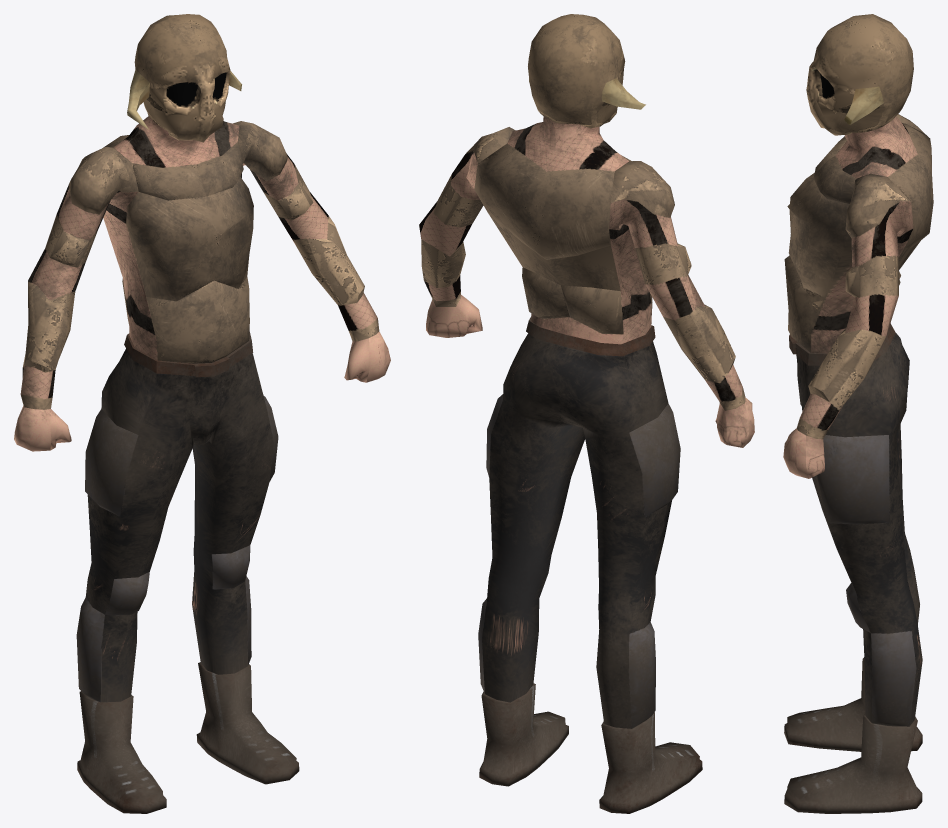
The model's file is Anim_idle_npc1.0032.obj.
The picture shows the model from 3 angles, left to right: view 1: azimuth 30°, elevation 25°; view 2: azimuth 150°, elevation 25°; view 3: azimuth 270°, elevation 25°; orthographic projection.
Parts seen in each view (by area): view 1: NPC2; view 2: NPC2; view 3: NPC2.
Boxes of the visible parts, x1,y1,x2,y2 form: NPC2: (14, 14, 390, 813); NPC2: (419, 14, 754, 813); NPC2: (783, 14, 933, 813).
Size of the model in its own units: 4.65 by 9.66 by 1.74.
